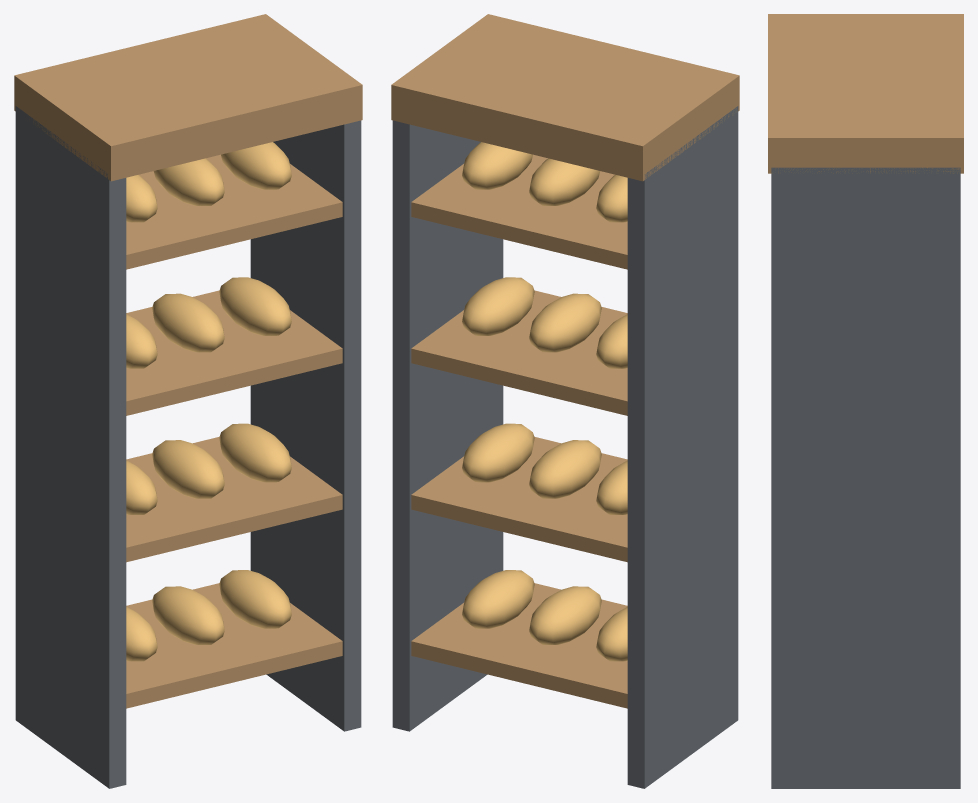
The model's file is obs_oven_rack.glb.
The picture shows the model from 3 angles, left to right: view 1: azimuth 30°, elevation 25°; view 2: azimuth 150°, elevation 25°; view 3: azimuth 270°, elevation 25°; orthographic projection.
Parts seen in each view (by area): view 1: 立方体, 立方体.001, 立方体.006, 立方体.004, 立方体.003, 立方体.002, 立方体.005, 球.005, 球.007, 球.001, 球.002, 球.004 (+7 smaller); view 2: 立方体, 立方体.001, 立方体.006, 立方体.004, 立方体.003, 立方体.002, 立方体.005, 球.005, 球.007, 球.001, 球.002, 球.004 (+7 smaller); view 3: 立方体.001, 立方体.006.
Part boxes in pixels (x1,y1,x2,y2): 立方体: (15,106,126,788); 立方体.001: (250,120,361,731); 立方体.006: (14,14,362,181); 立方体.004: (126,290,342,415); 立方体.003: (126,436,342,562); 立方体.002: (126,583,342,708); 立方体.005: (126,154,342,269); 球.005: (219,423,291,482); 球.007: (152,293,224,352); 球.001: (152,586,224,644); 球.002: (219,570,291,628); 球.004: (152,440,224,498); 立方体: (627,106,738,788); 立方体.001: (392,120,503,731); 立方体.006: (391,14,739,181); 立方体.004: (411,290,627,415); 立方体.003: (411,436,627,562); 立方体.002: (411,583,627,708); 立方体.005: (411,154,627,269); 球.005: (462,423,534,482); 球.007: (529,293,601,352); 球.001: (529,586,601,644); 球.002: (462,570,534,628); 球.004: (529,440,601,498); 立方体.001: (771,167,960,788); 立方体.006: (768,14,963,173).
Bounding box in the file's own units: 0.9 × 2.2 × 0.6.
